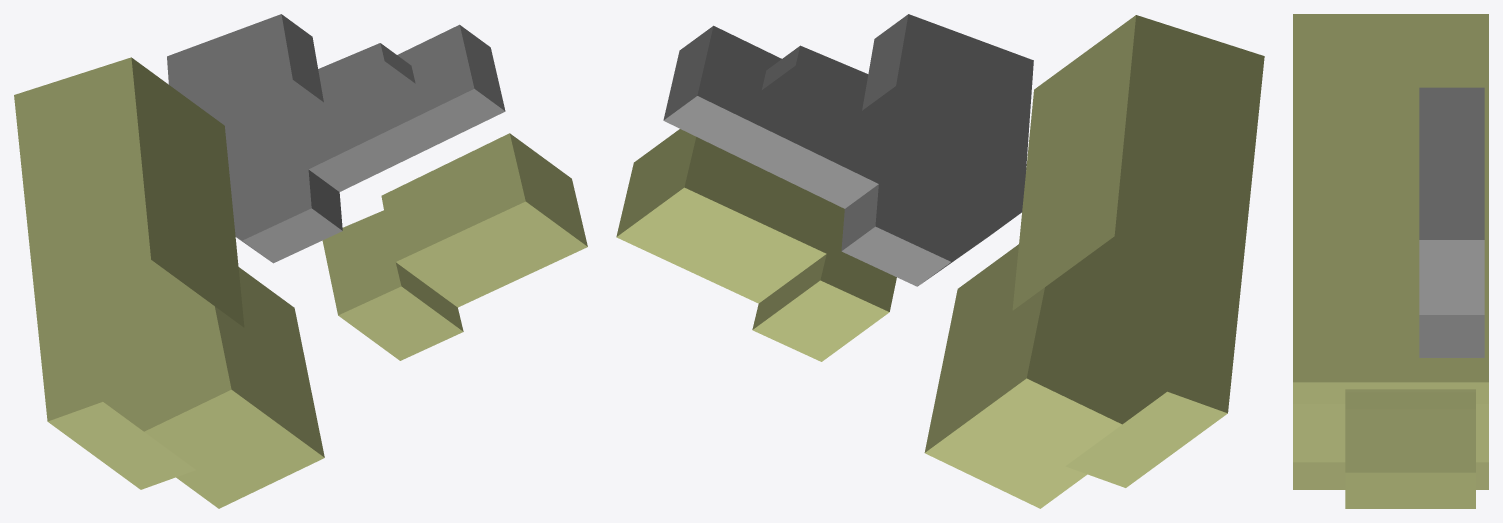
3 renders of one model, left to right at view 1: azimuth 30°, elevation 25°; view 2: azimuth 150°, elevation 25°; view 3: azimuth 270°, elevation 25°, orthographic. The views are drawn at different scales.
Visible parts, largest first — view 1: 0_1_0_2_1_2_3_0_3_2; view 2: 0_1_0_2_1_2_3_0_3_2; view 3: 0_1_0_2_1_2_3_0_3_2.
Boxes of the visible parts, <box> form: 0_1_0_2_1_2_3_0_3_2: <box>14,14,587,508</box>; 0_1_0_2_1_2_3_0_3_2: <box>616,14,1264,508</box>; 0_1_0_2_1_2_3_0_3_2: <box>1293,14,1488,508</box>.
Size of the model in its own units: 28.14 by 20.78 by 9.
